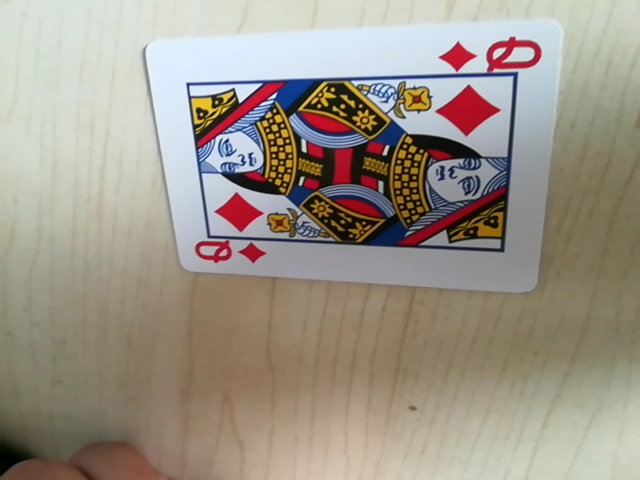fk q: (442, 29, 549, 77), (189, 236, 268, 270)
